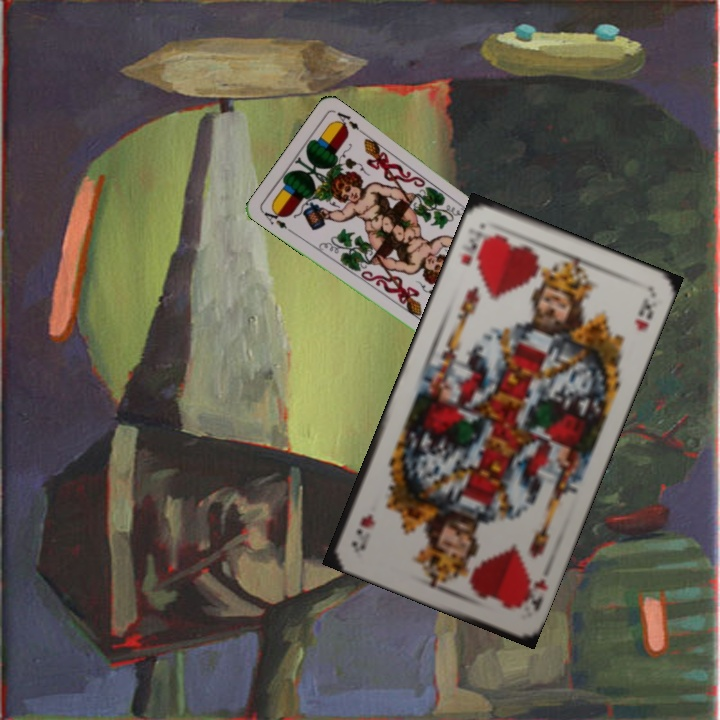EA: (259, 204, 290, 231)
HK: (513, 568, 550, 615), (457, 229, 490, 269)
